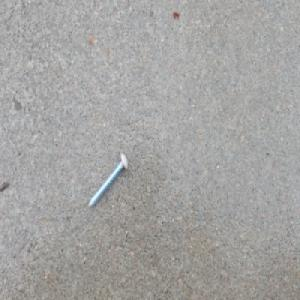Nail: (85, 151, 128, 210)
